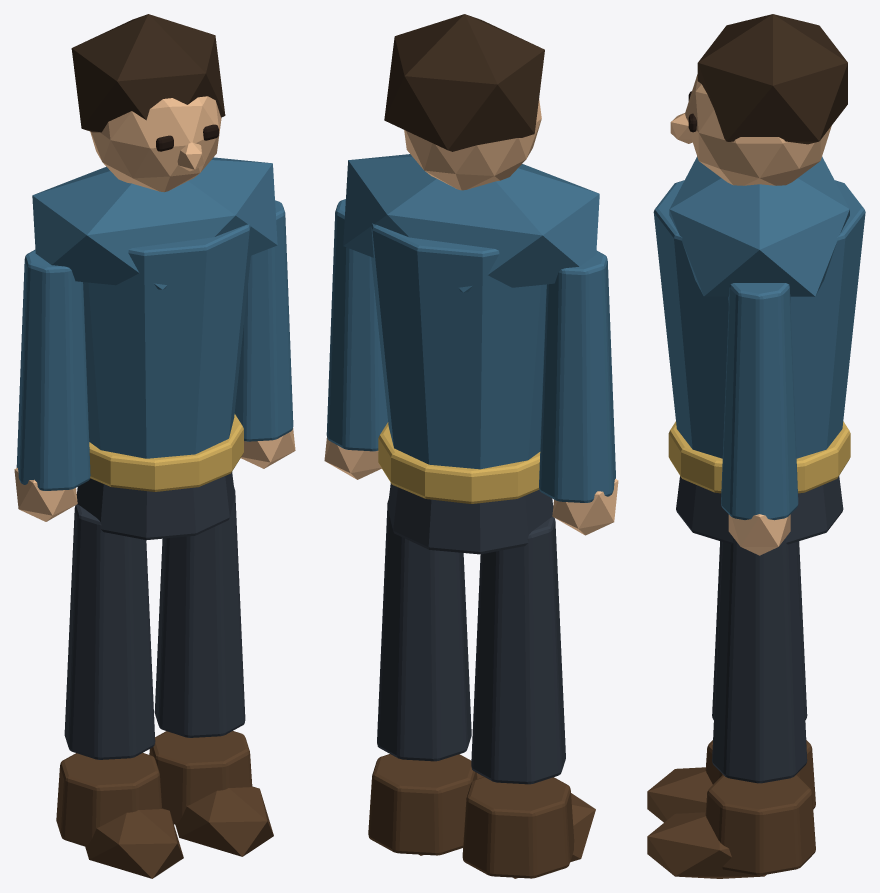
Rendered from player.glb.
3 views of the same model, side by side, from view 1: azimuth 30°, elevation 25°; view 2: azimuth 150°, elevation 25°; view 3: azimuth 270°, elevation 25° (orthographic). The views are drawn at different scales.
Visible parts, largest first — view 1: Cone.005, Icosphere.002, Cone.002, Cone, Cone.008, Icosphere.006, Cone.007, Icosphere.005, Cone.004, Cone.003, Cone.001, Cone.006 (+5 smaller); view 2: Cone.005, Icosphere.002, Cone.002, Cone, Icosphere.006, Cone.008, Cone.007, Cone.003, Cone.001, Cone.004, Cone.006, Icosphere.005 (+3 smaller); view 3: Cone.005, Cone, Icosphere.002, Cone.007, Icosphere.006, Cone.001, Icosphere.005, Cone.004, Icosphere, Cone.006, Icosphere.001, Icosphere.003 (+3 smaller).
Boxes of the visible parts, x1,y1,x2,y2 form: Cone.005: (83, 223, 250, 458); Icosphere.002: (32, 157, 277, 289); Cone.002: (64, 504, 155, 759); Cone: (154, 487, 245, 737); Cone.008: (16, 250, 90, 490); Icosphere.006: (71, 14, 225, 132); Cone.007: (234, 200, 293, 441); Icosphere.005: (90, 96, 221, 192); Cone.004: (76, 472, 234, 540); Cone.003: (56, 753, 162, 846); Cone.001: (149, 731, 252, 824); Cone.006: (89, 414, 243, 491); Cone.005: (371, 223, 546, 469); Icosphere.002: (343, 154, 599, 292); Cone.002: (471, 517, 565, 784); Cone: (377, 498, 471, 761); Icosphere.006: (384, 14, 544, 151); Cone.008: (539, 250, 615, 502); Cone.007: (326, 199, 387, 451); Cone.003: (462, 777, 574, 878); Cone.001: (368, 754, 477, 855); Cone.004: (387, 483, 553, 554); Cone.006: (378, 422, 540, 503); Icosphere.005: (404, 98, 541, 190); Cone.005: (653, 180, 865, 458); Cone: (712, 538, 807, 783); Icosphere.002: (669, 156, 849, 296); Cone.007: (721, 283, 798, 520); Icosphere.006: (697, 14, 847, 144); Cone.001: (705, 775, 815, 875); Icosphere.005: (685, 74, 831, 185); Cone.004: (676, 476, 843, 544); Icosphere: (647, 812, 766, 878); Cone.006: (668, 421, 850, 493); Icosphere.001: (647, 767, 712, 822); Icosphere.003: (728, 514, 790, 555).
Bounding box in the file's own units: 0.7267 × 2.1 × 0.4924.
